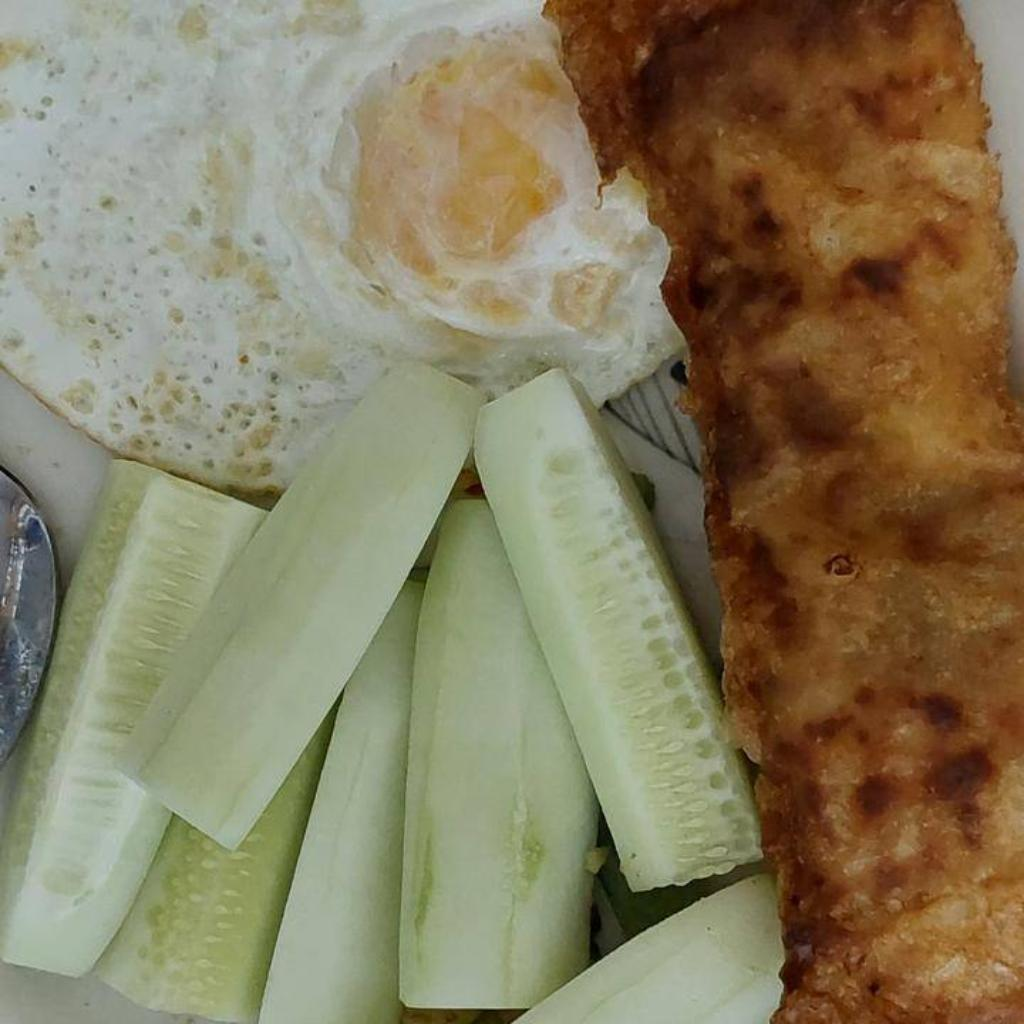cucumber: (0, 368, 782, 1023)
egg-poached: (0, 0, 680, 491)
roll: (545, 0, 1023, 1023)
